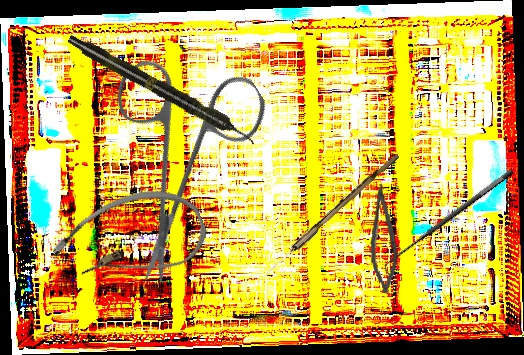Cannula: (44, 172, 215, 308)
Handpiece: (64, 30, 260, 150)
Hook Surgical: (376, 166, 522, 281)
Iris Scissors: (45, 16, 317, 289)
Micro Scissor: (363, 181, 402, 296)
Surgical Spoon: (254, 150, 400, 287)
